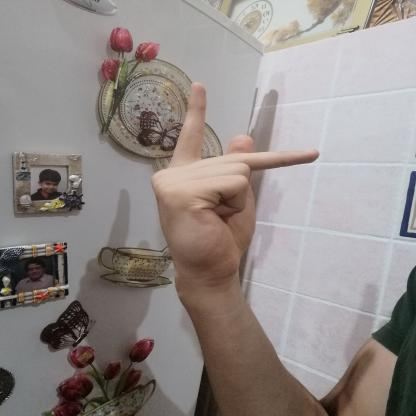DHAA: (138, 76, 332, 291)
